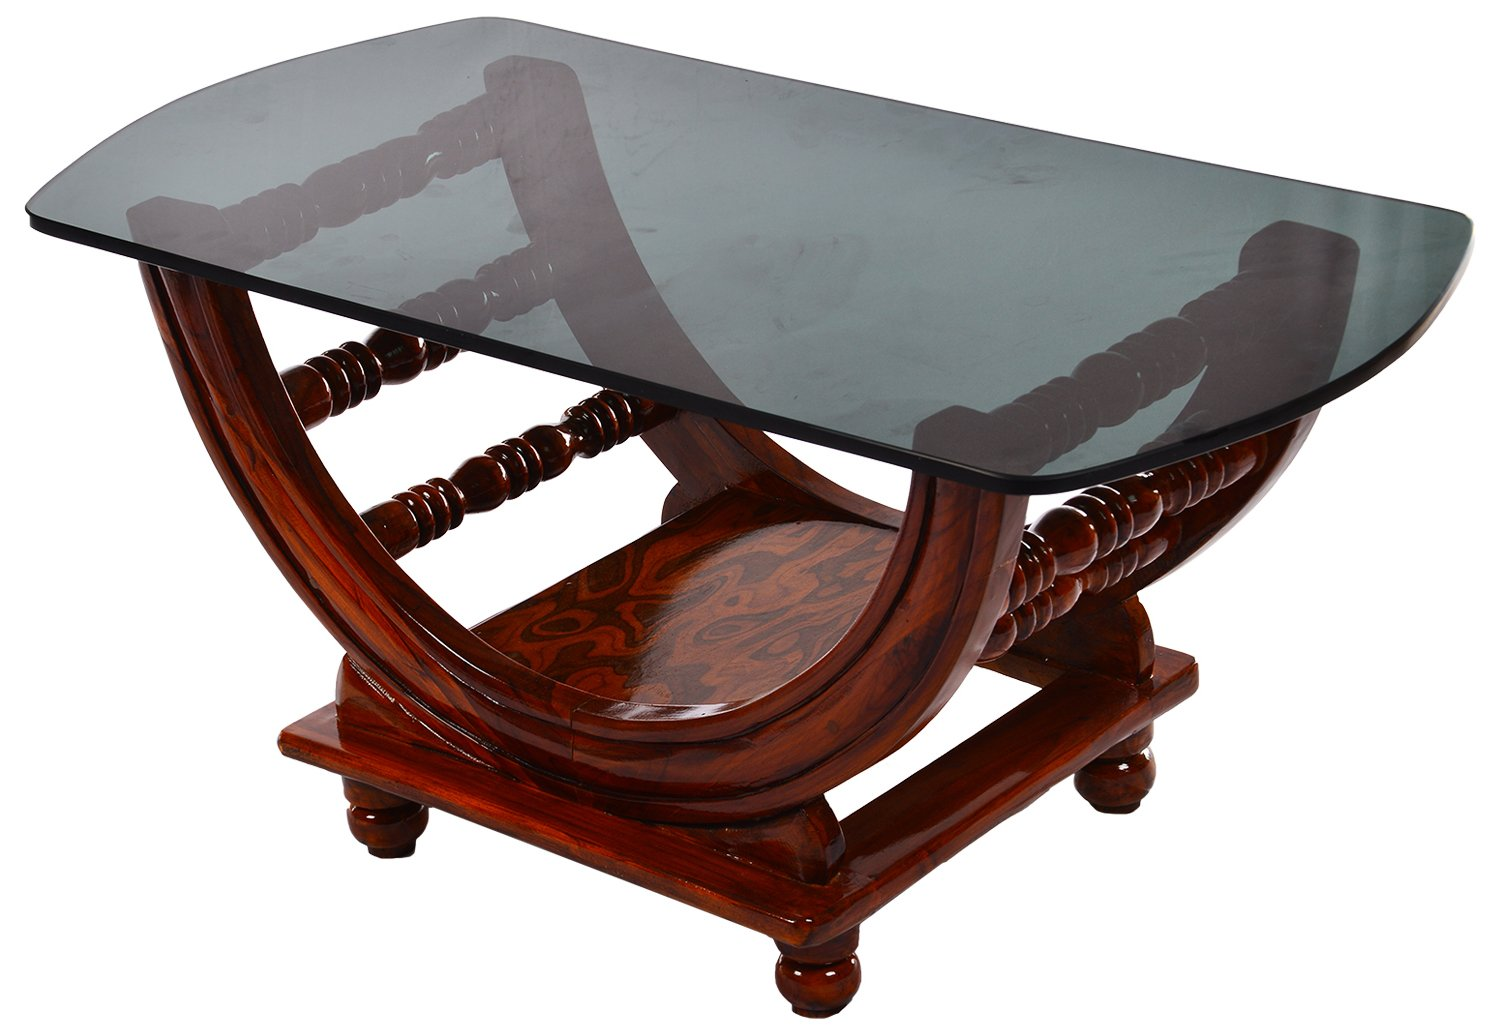table: (23, 15, 1475, 1015)
